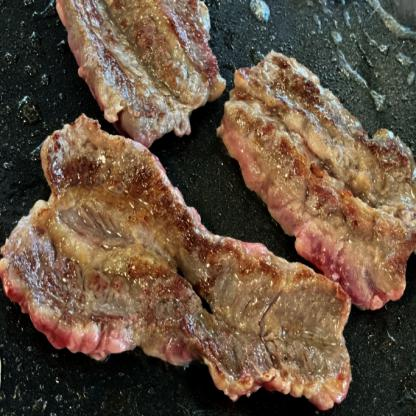Carne: (0, 112, 348, 415), (223, 59, 415, 253), (51, 0, 229, 139)
